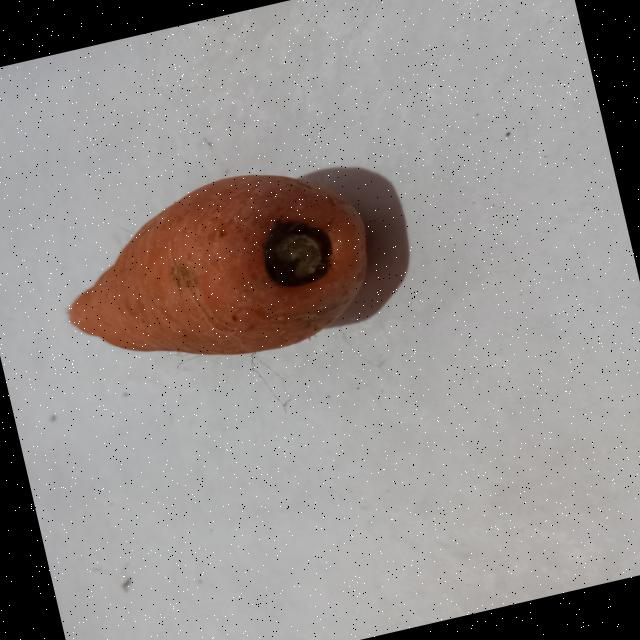carrot: (68, 173, 367, 353)
